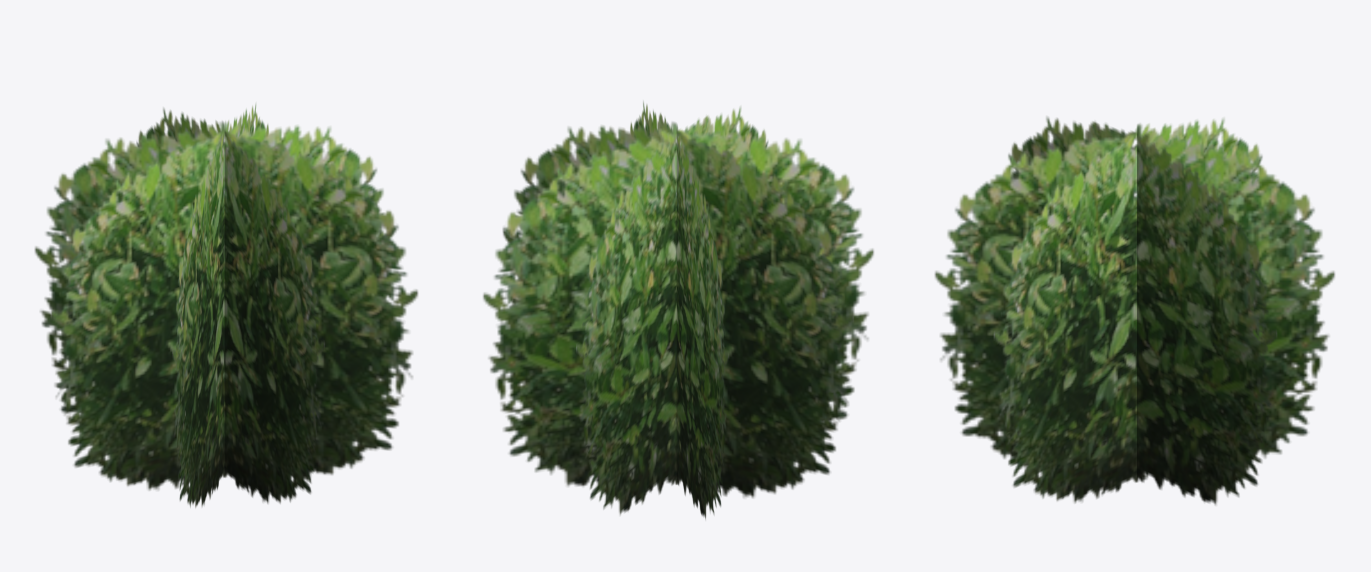
File: Bush_05.glb
3 views of the same model, side by side, from view 1: azimuth 30°, elevation 25°; view 2: azimuth 150°, elevation 25°; view 3: azimuth 270°, elevation 25° (orthographic).
Parts seen in each view (by area): view 1: Bush 05; view 2: Bush 05; view 3: Bush 05.
Part boxes in pixels (left/top/right/bottom): Bush 05: left=34, top=103, right=418, bottom=507; Bush 05: left=482, top=101, right=874, bottom=519; Bush 05: left=934, top=116, right=1335, bottom=504.
Size of what is drawn, in the model's own units: 1.73 by 1.75 by 1.73.
1 material, 1 textured.
